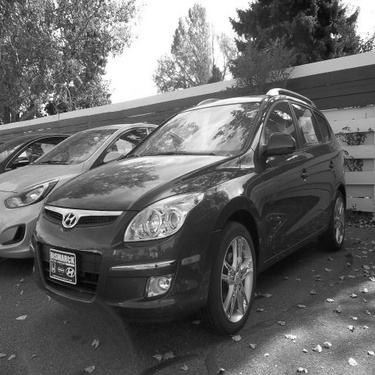car: (33, 89, 359, 306), (4, 117, 227, 278), (1, 131, 94, 169)
